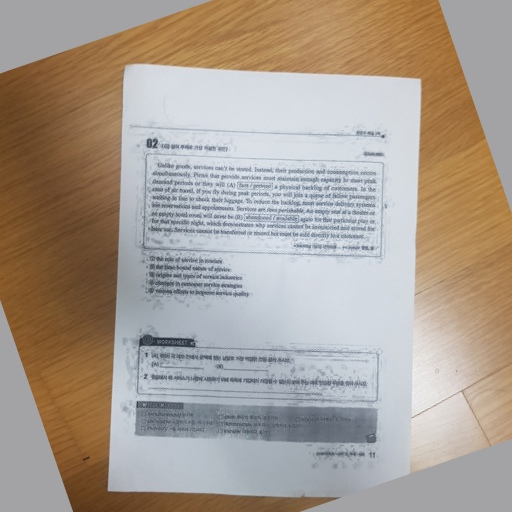Paper_2: (102, 55, 425, 504)
